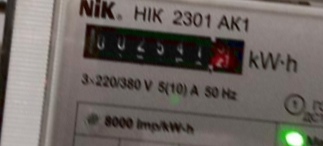0: (92, 27, 107, 49), (113, 27, 127, 50)
1: (191, 37, 205, 58)
2: (133, 31, 147, 52)
4: (173, 34, 187, 56)
5: (152, 32, 166, 55)
6: (213, 52, 225, 68)
screen: (70, 10, 257, 84)
